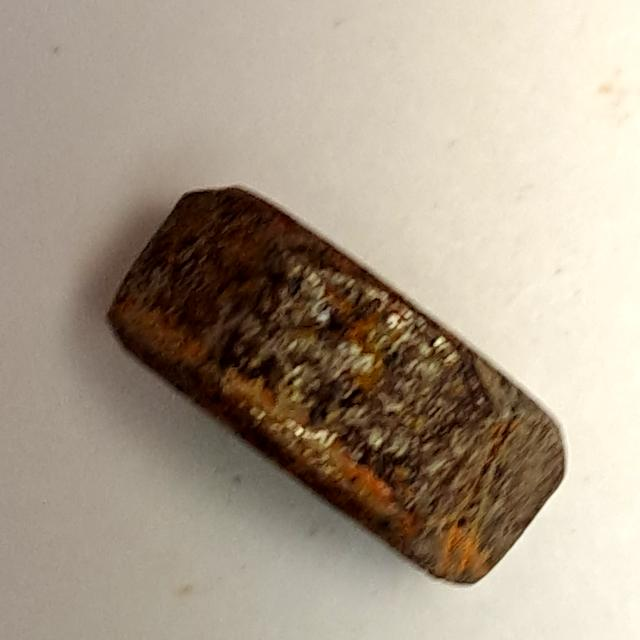Side_Rust: (94, 173, 578, 604)
